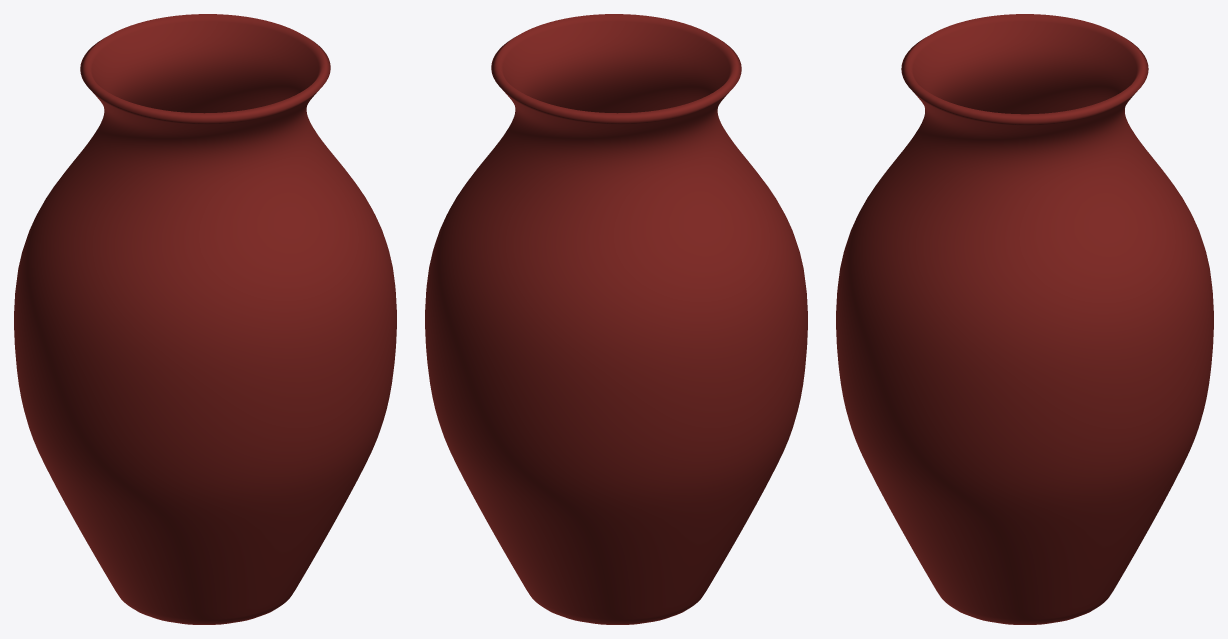
Rendered from Vase.glb.
3 renders of one model, left to right at view 1: azimuth 30°, elevation 25°; view 2: azimuth 150°, elevation 25°; view 3: azimuth 270°, elevation 25°, orthographic.
Visible parts, largest first — view 1: Circle; view 2: Circle; view 3: Circle.
Boxes of the visible parts, x1,y1,x2,y2 form: Circle: [14, 14, 396, 624]; Circle: [425, 14, 807, 624]; Circle: [836, 14, 1213, 624].
Size of the model in its own units: 0.8733 by 1.32 by 0.86.
